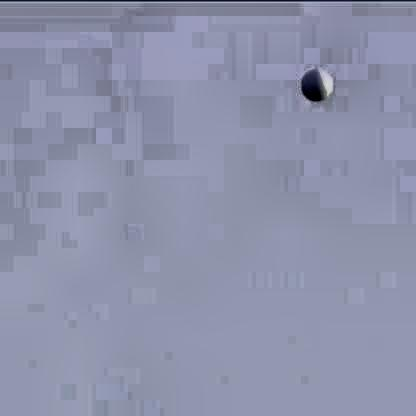golfball: (297, 62, 330, 98)
